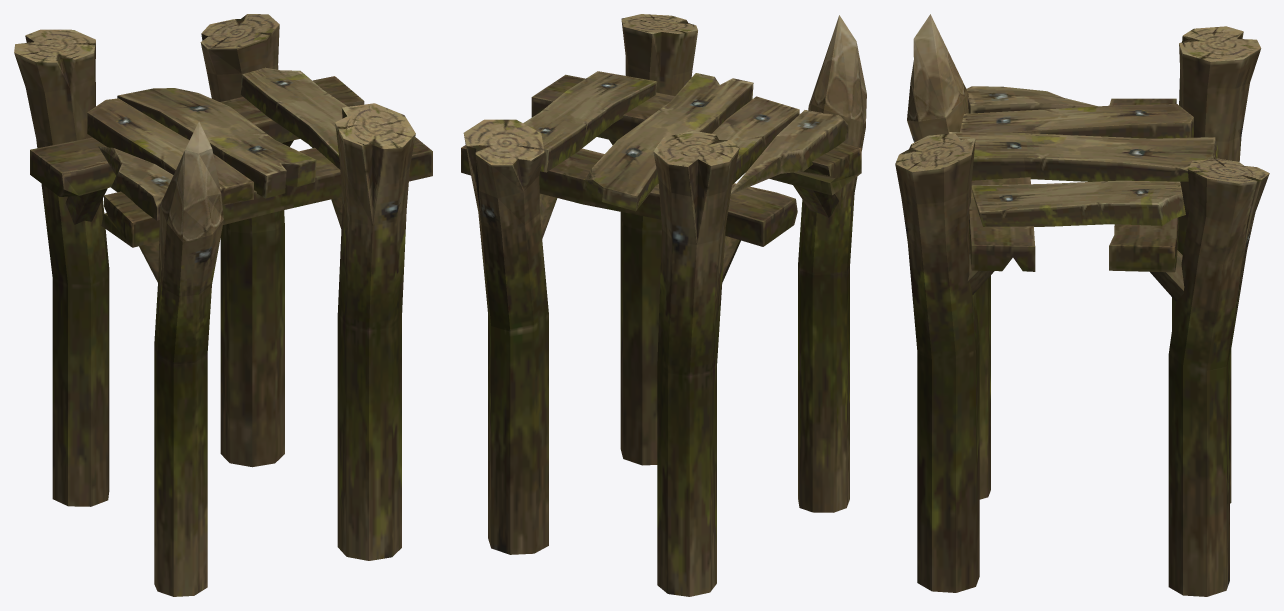
Rendered from dock_01.fbx.
3 renders of one model, left to right at view 1: azimuth 30°, elevation 25°; view 2: azimuth 150°, elevation 25°; view 3: azimuth 270°, elevation 25°, orthographic.
Parts seen in each view (by area): view 1: obj3; view 2: obj3; view 3: obj3.
Boxes of the visible parts, x1=… form: obj3: x1=14, y1=14, x2=432, y2=596; obj3: x1=461, y1=14, x2=866, y2=596; obj3: x1=895, y1=14, x2=1269, y2=596.
Size of the model in its own units: 4.01 by 5.99 by 4.25.
